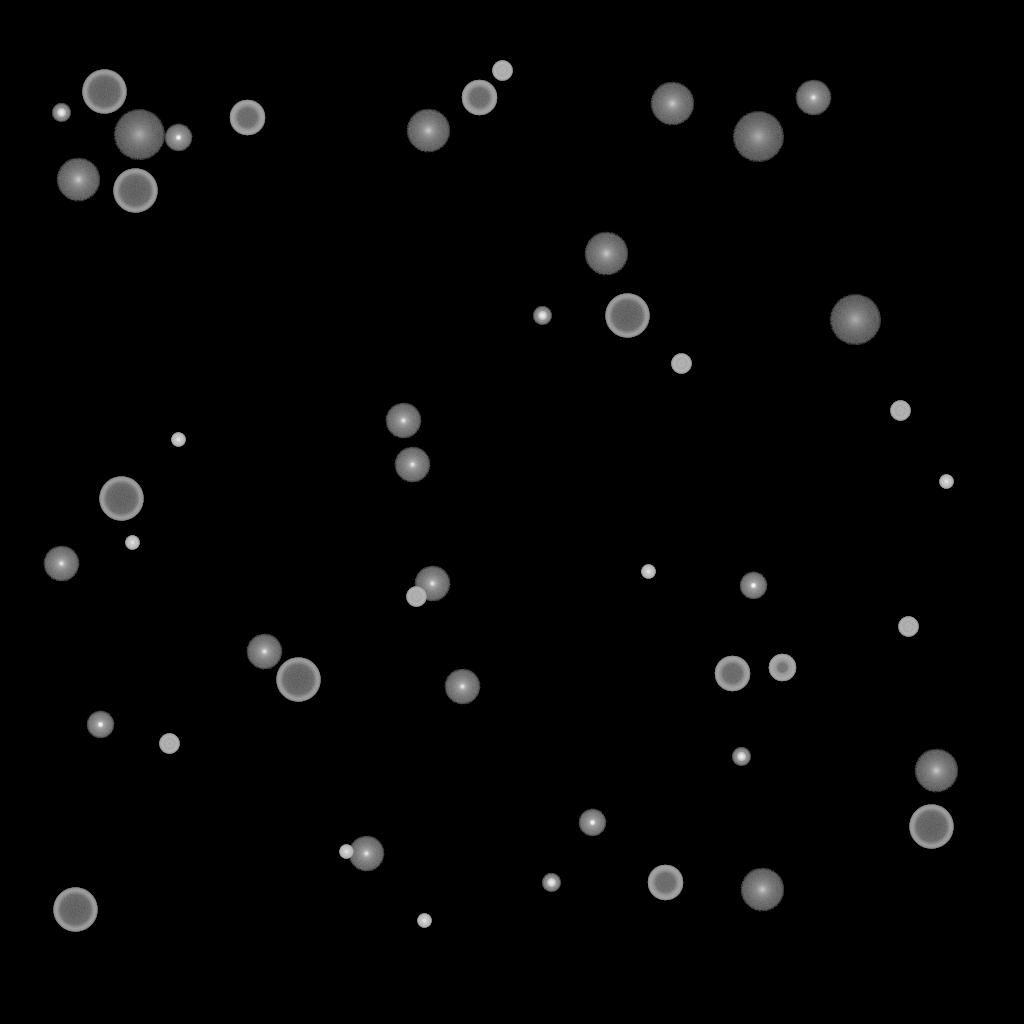depth:-10: (164, 124, 192, 152), (86, 711, 114, 739), (578, 809, 606, 837), (739, 572, 767, 600)
depth:-20: (52, 104, 70, 122), (542, 874, 560, 892), (533, 307, 551, 325), (732, 748, 750, 766)
depth:-30: (171, 433, 185, 447), (125, 536, 139, 550), (939, 475, 953, 489), (417, 914, 431, 928), (339, 845, 353, 859), (641, 565, 655, 579)
depth:-40: (492, 61, 512, 81), (406, 587, 426, 607), (159, 734, 179, 754), (890, 401, 910, 421), (671, 354, 691, 374), (898, 617, 918, 637)
depth:-50: (768, 654, 796, 682)
depth:-60: (647, 865, 683, 901), (461, 80, 497, 116), (714, 656, 750, 692), (229, 100, 265, 136)
depth:-70: (276, 658, 320, 702), (53, 888, 97, 932), (605, 294, 649, 338), (99, 477, 143, 521), (909, 805, 953, 849), (82, 70, 126, 114), (113, 169, 157, 213)
depth:0: (43, 546, 79, 582), (795, 80, 831, 116), (385, 403, 421, 439), (394, 447, 430, 483), (246, 634, 282, 670), (348, 836, 384, 872), (444, 669, 480, 705), (414, 566, 450, 602)
depth:10: (650, 82, 694, 126), (914, 749, 958, 793), (406, 109, 450, 153), (740, 868, 784, 912), (584, 232, 628, 276), (56, 158, 100, 202)
depth:20: (732, 112, 784, 162), (113, 110, 165, 160), (829, 295, 881, 345)
